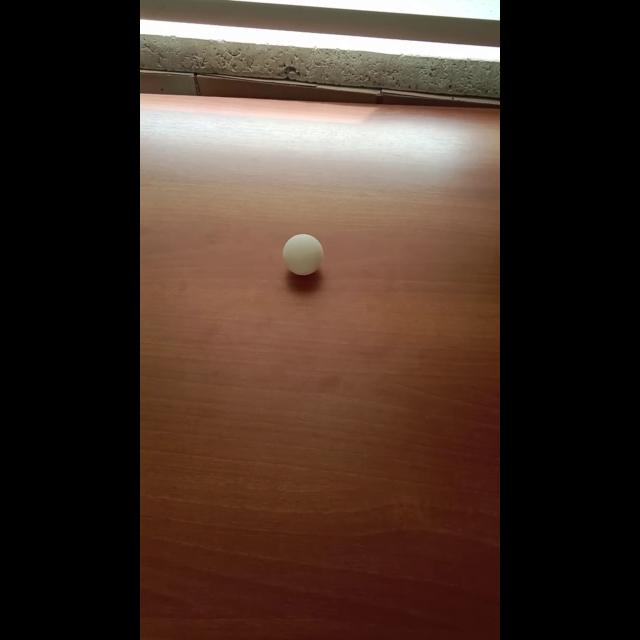white ball: (281, 233, 323, 275)
